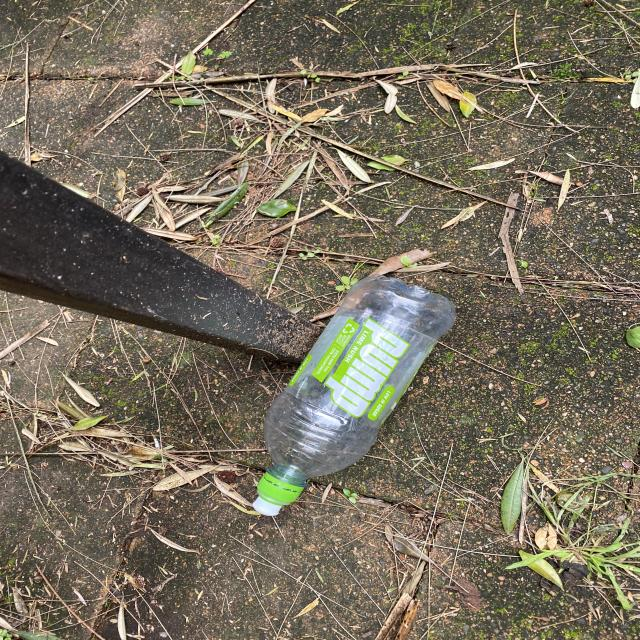bottle: (252, 276, 456, 516)
